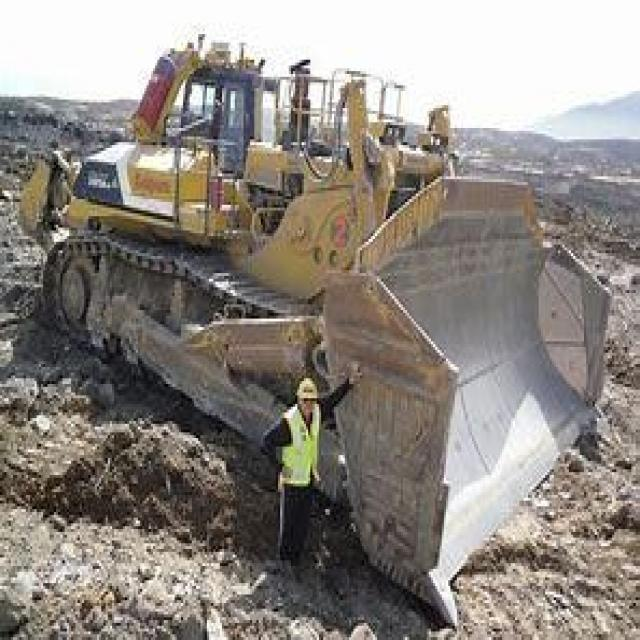Bulldozer: (13, 26, 605, 628)
